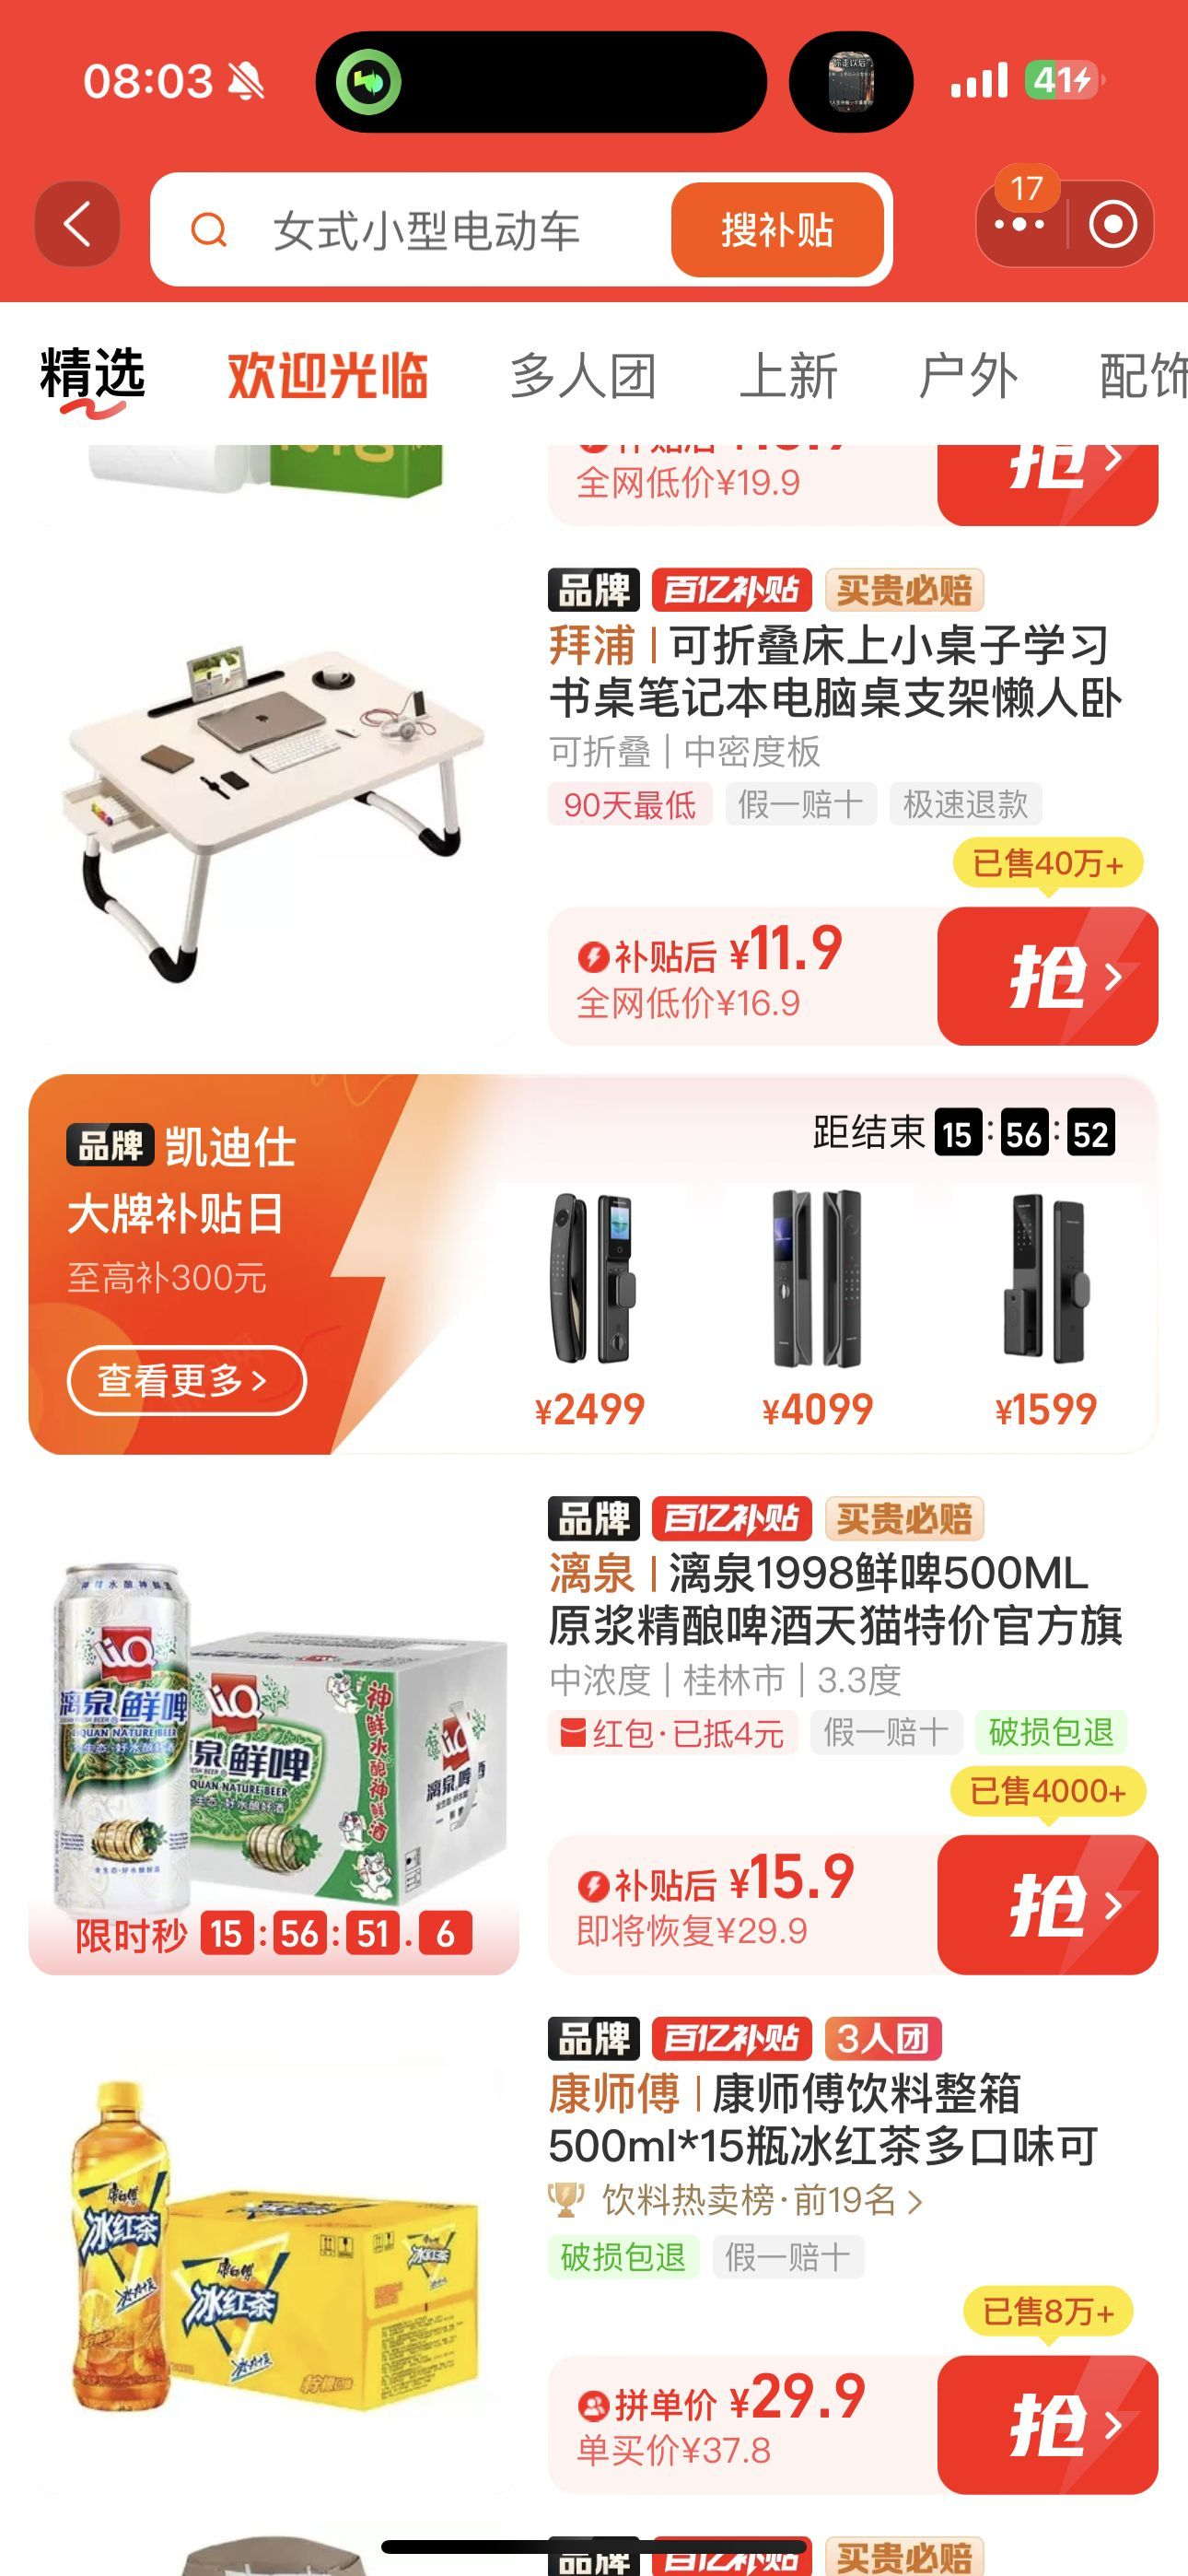banner: (2, 1074, 1186, 1503)
item: (18, 1508, 1188, 2011), (16, 572, 1178, 1066), (13, 2027, 1188, 2491)
op_bar: (2, 158, 1188, 284)
